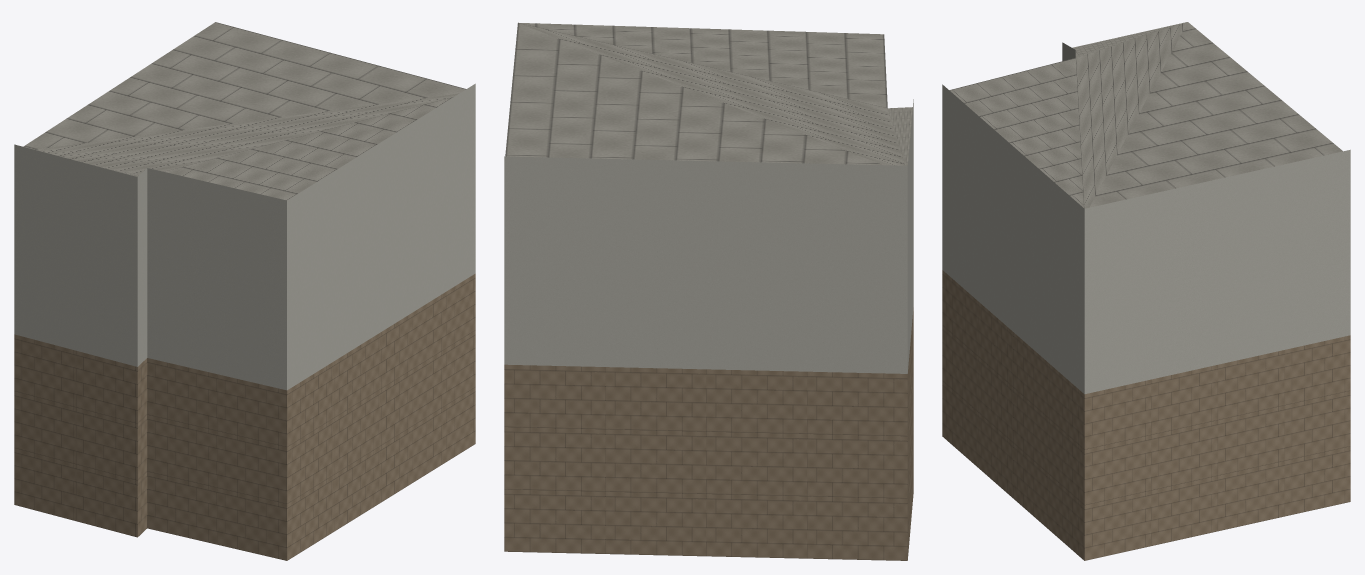
File: bld_c20_45_398.gltf
3 views of the same model, side by side, from view 1: azimuth 30°, elevation 25°; view 2: azimuth 150°, elevation 25°; view 3: azimuth 270°, elevation 25° (orthographic). The views are drawn at different scales.
Parts seen in each view (by area): view 1: bld_c20_45_398; view 2: bld_c20_45_398; view 3: bld_c20_45_398.
Part boxes in pixels (bbox=[...]): bld_c20_45_398: bbox=[14, 22, 475, 560]; bld_c20_45_398: bbox=[504, 22, 913, 560]; bld_c20_45_398: bbox=[942, 22, 1350, 560].
Size of the model in its own units: 12.78 by 10.78 by 11.33.
Materials: 4 (4 with a texture image).
